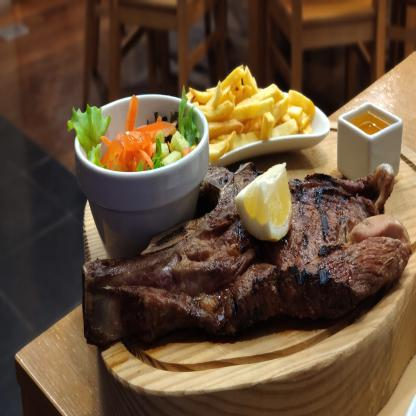Carne: (78, 159, 412, 352)
